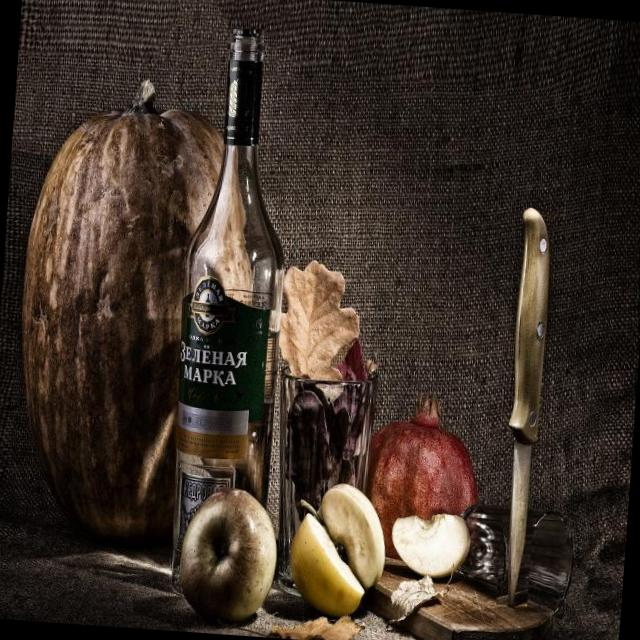Knife: (507, 207, 548, 605)
